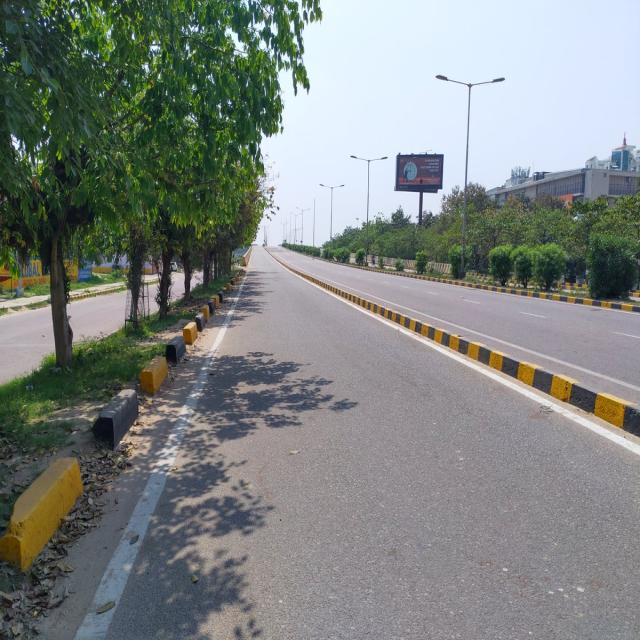Clean road: (0, 282, 640, 640)
